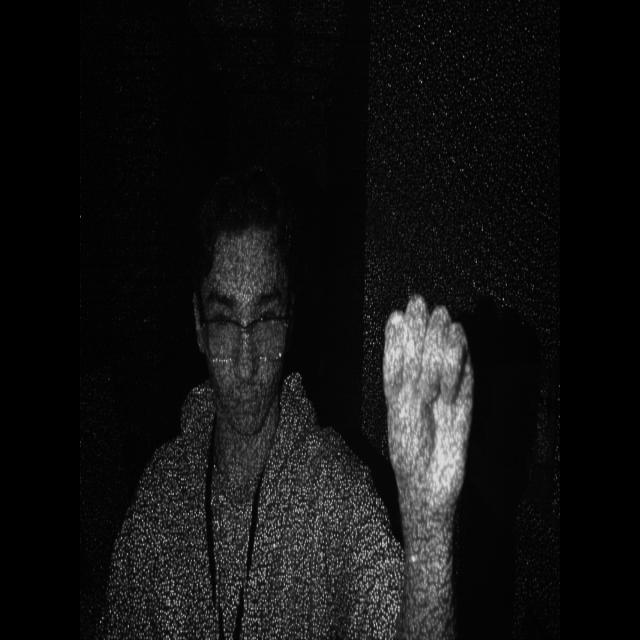E: (375, 281, 482, 576)
